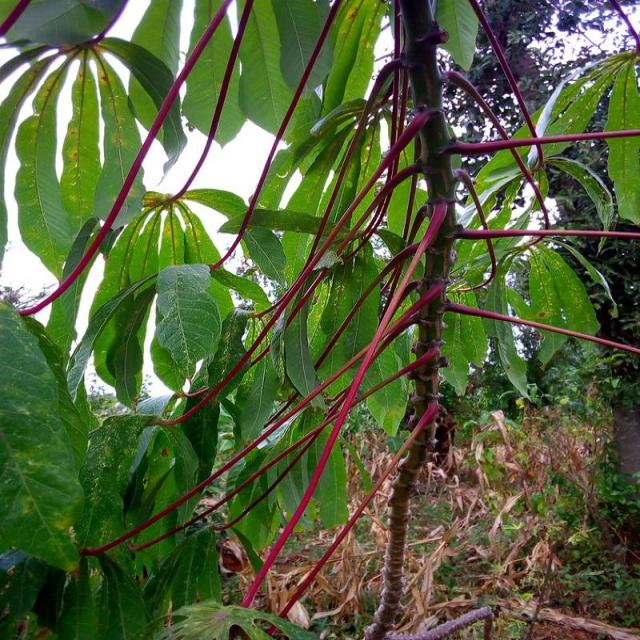cassava leaf: (150, 262, 222, 392)
